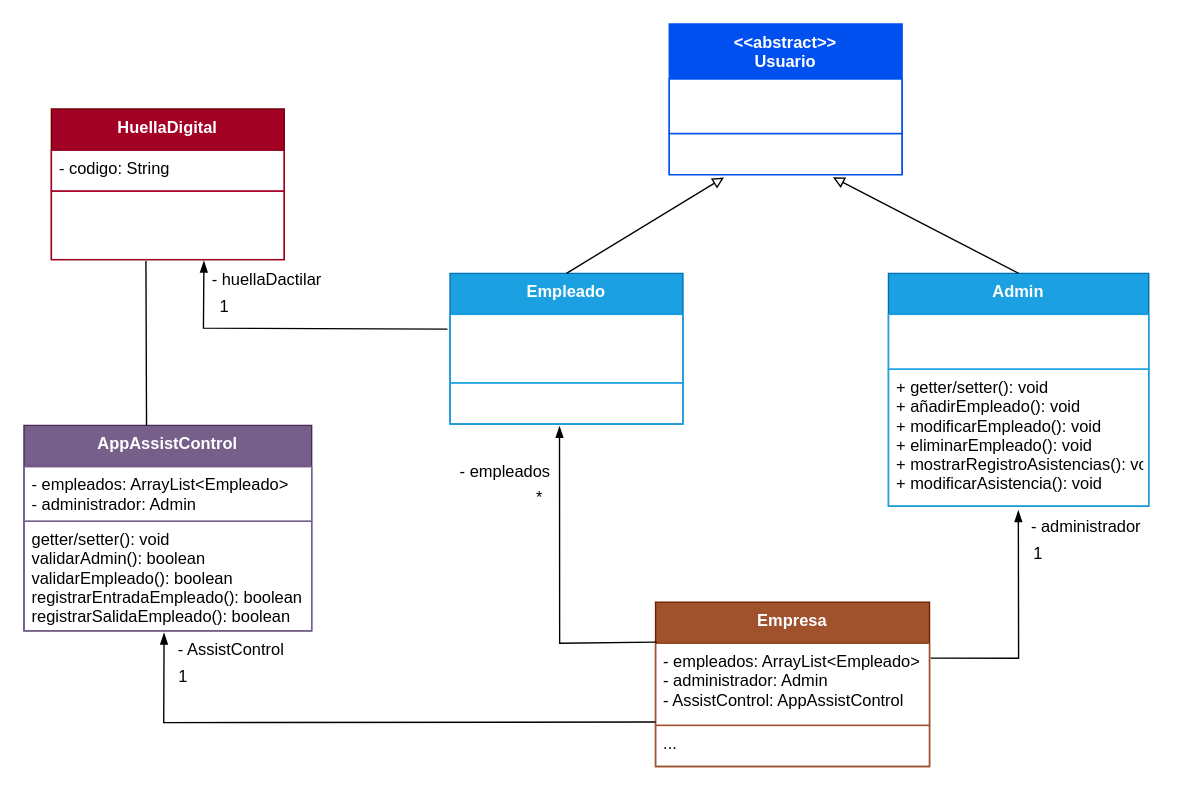
The diagram is 1184 pixels wide and 795 high, and some of its shapes have lost their labels. The centre of each missing label's shape, as x and y in pixels:
+ getter/setter(): void: the point at 785,153
+ getter/setter(): void + capturarHuella(): boolean + validarHuella(): boolean: the point at 167,225
- cargo: String - horarioEntrada: String - horarioSalida: String: the point at 566,348
- nombre: String - apellido: String: the point at 785,105
- usuario: String - clave: String: the point at 1018,341
getter/setter(): void: the point at 566,403
